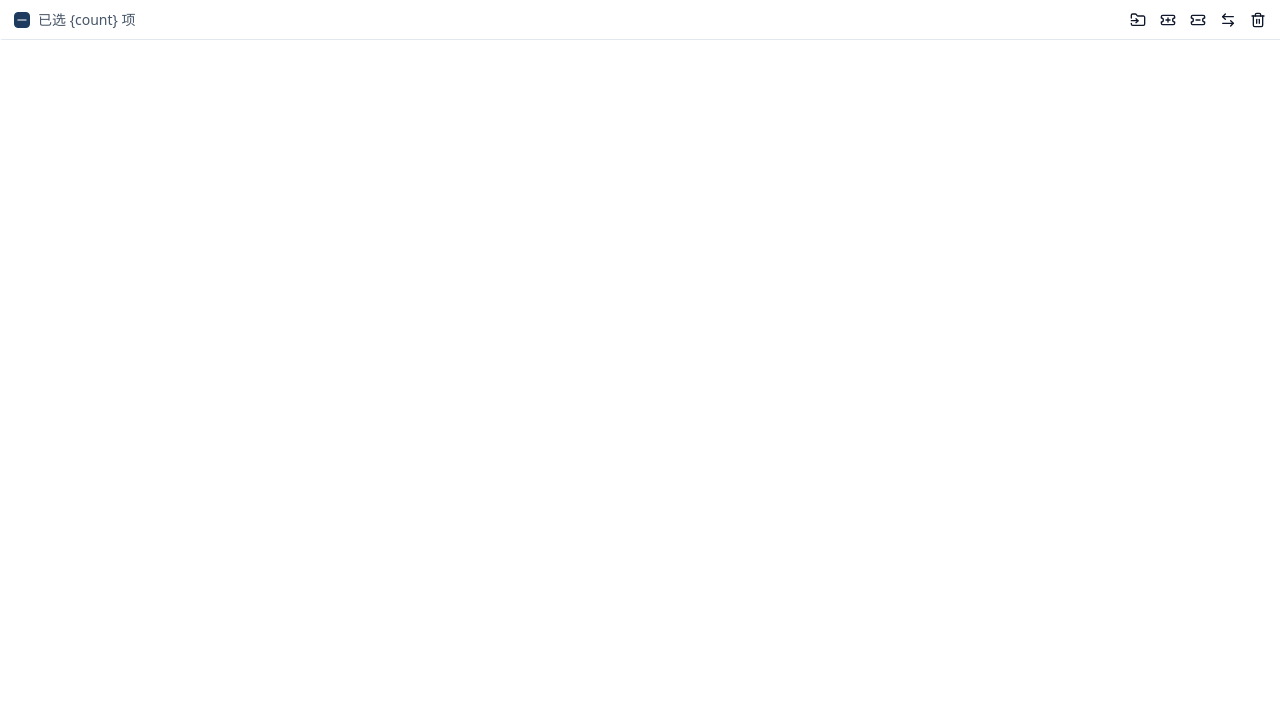
Scenario: 批量删除执行 › 删除失败时确认框保持打开并说明原因, 条目与勾选不变
Click the button named "删除选中的条目" at [1258, 20], box 1244,6 -> 1272,34
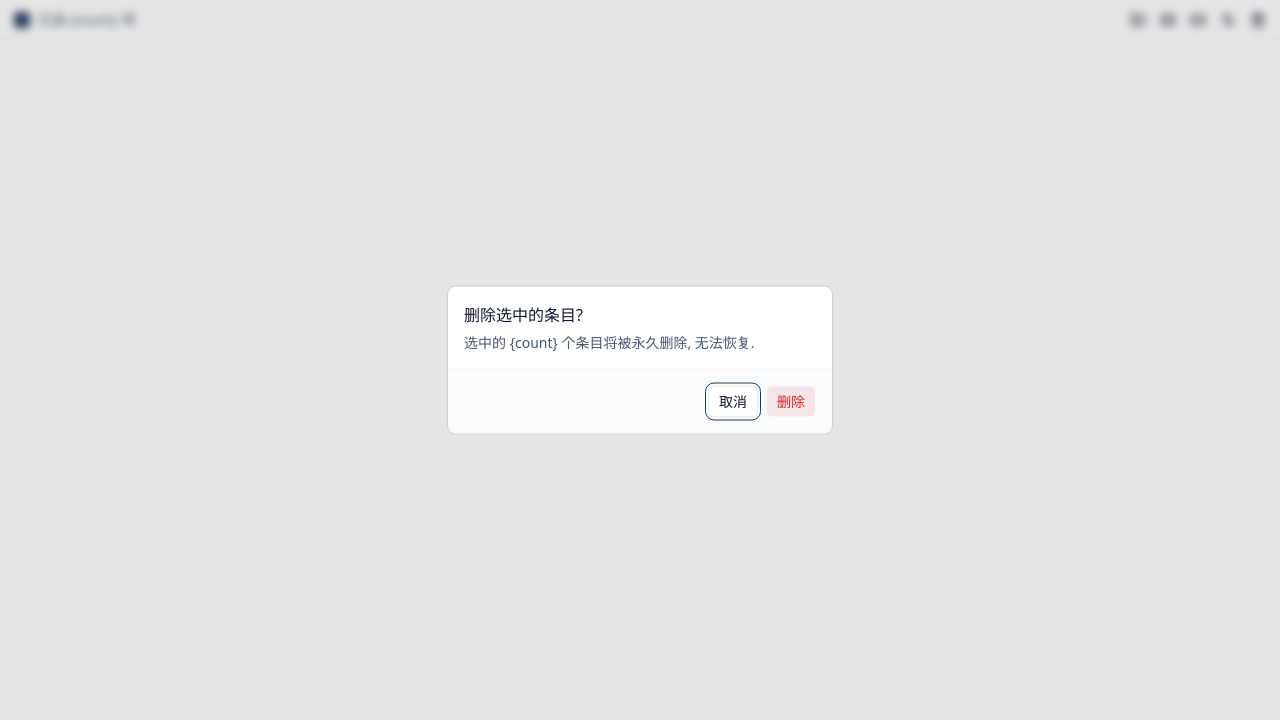
Click the button "删除" at [791, 402], box 766,386 -> 816,418
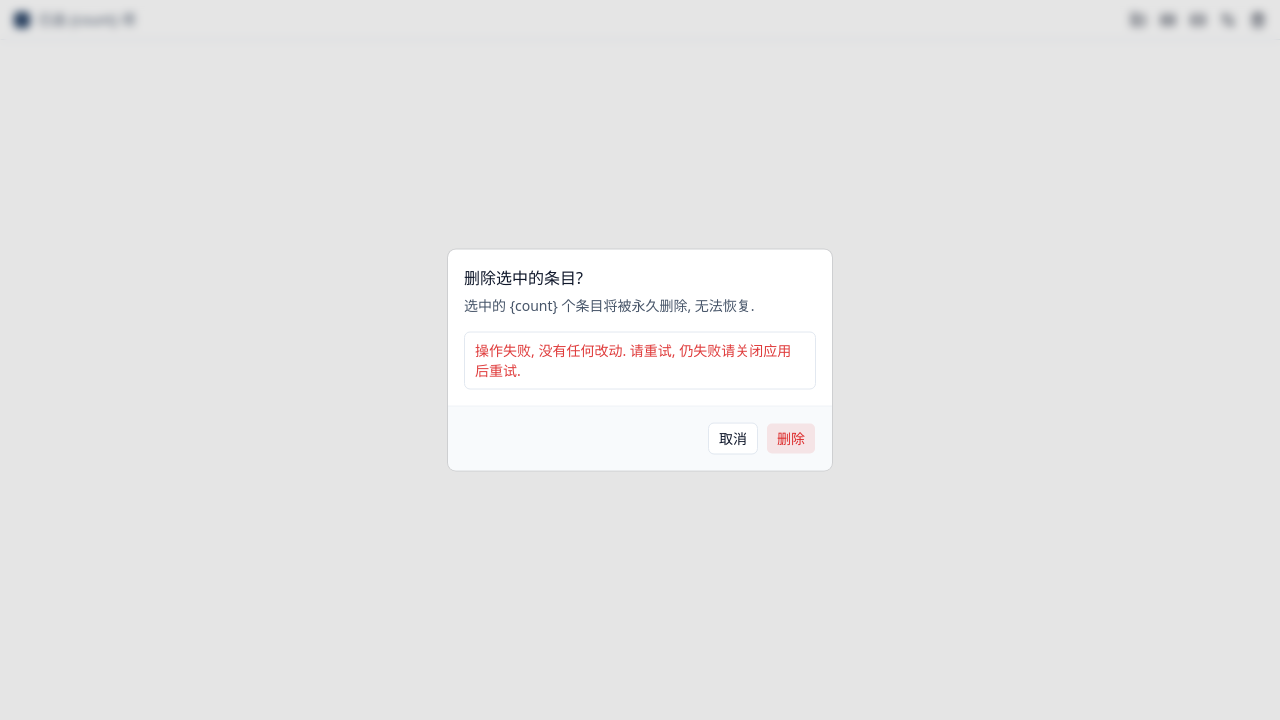
Check: the dialog is shown, box 448,250 -> 832,470
Check: the text "操作失败, 没有任何改动. 请重试, 仍失败请关闭应用后重试." is shown, box 475,340 -> 805,380
